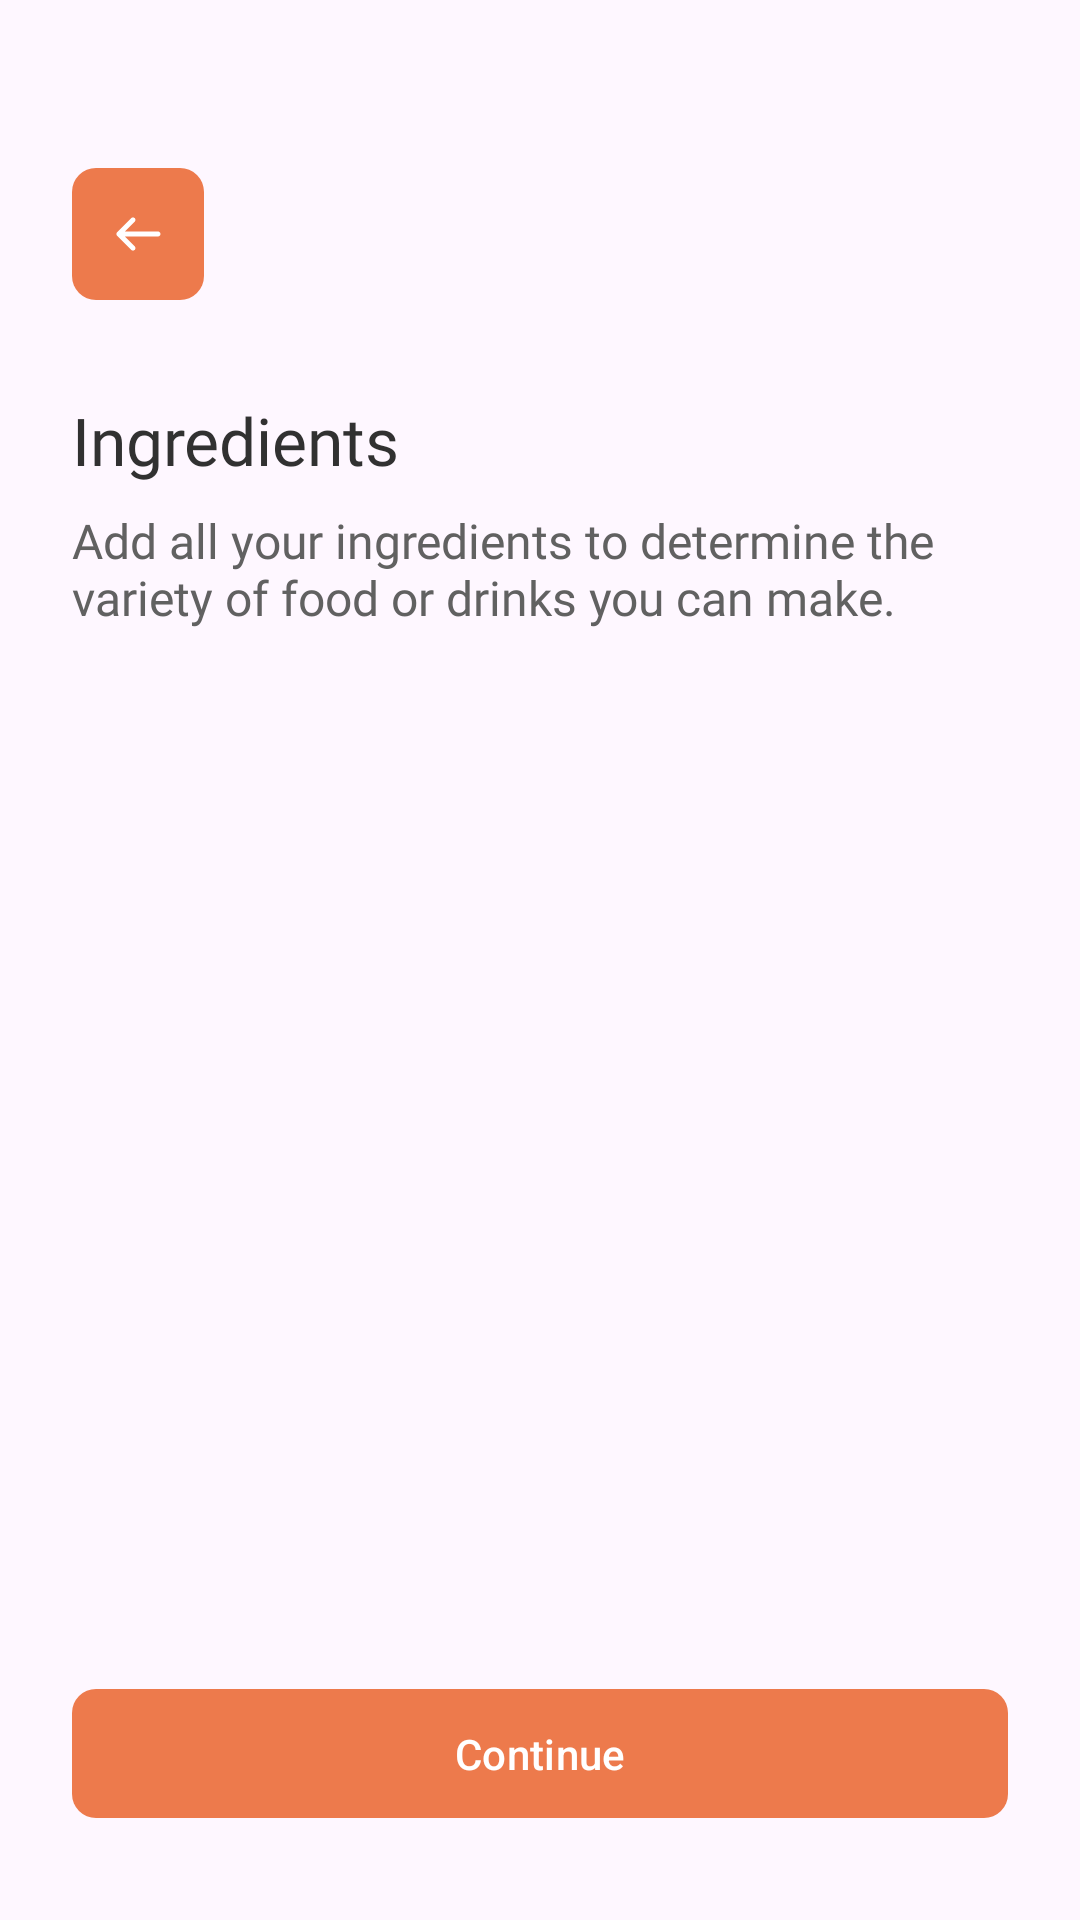

Icons on this 1080w x 1920h Android screen, each with its box as (x1, y1, x2, y2):
back: (72, 168, 204, 300)
